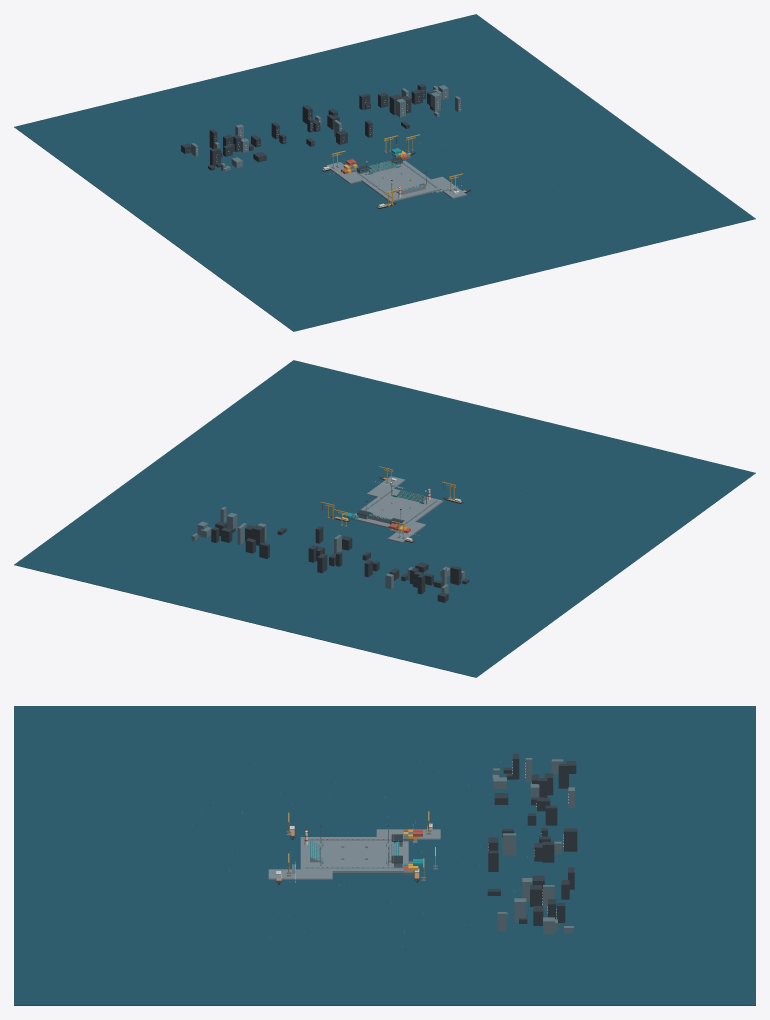
File: harbor-arena.glb
The picture shows the model from 3 angles, top to bottom: view 1: azimuth 30°, elevation 25°; view 2: azimuth 150°, elevation 25°; view 3: azimuth 270°, elevation 25°; orthographic projection. The views are drawn at different scales.
Parts seen in each view (by area): view 1: water, metal, concrete, steel; view 2: water, metal, concrete, steel; view 3: water, metal, concrete, steel.
Boxes of the visible parts, x1,y1,x2,y2 form: water: [14, 14, 755, 331]; metal: [181, 83, 470, 208]; concrete: [326, 160, 466, 202]; steel: [191, 85, 559, 206]; water: [14, 360, 755, 677]; metal: [211, 477, 469, 602]; concrete: [354, 476, 443, 542]; steel: [191, 478, 464, 593]; water: [14, 706, 755, 1005]; metal: [275, 753, 577, 925]; concrete: [268, 829, 440, 879]; steel: [213, 758, 574, 947].
Bounding box in the file's own units: 420 × 15.73 × 440.
